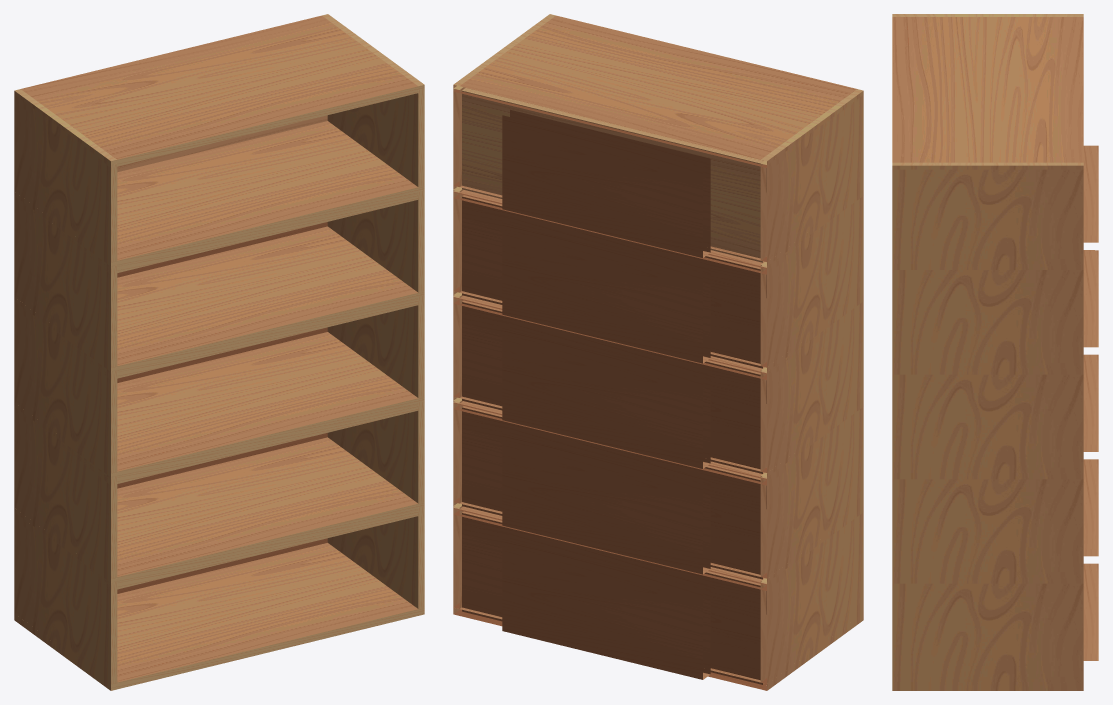
File: layout_wide_5s_open.fbx
3 views of the same model, side by side, from view 1: azimuth 30°, elevation 25°; view 2: azimuth 150°, elevation 25°; view 3: azimuth 270°, elevation 25° (orthographic).
Visible parts, largest first — view 1: Shelf-TM-00 4, Shelf-BM-00, Shelf-BM-00 4, Shelf-BM-00 3, Shelf-BM-00 2, Shelf-BM-00 1, Shelf-CL-01 2, Shelf-CL-01 3, Shelf-CL-01, Shelf-CL-01 1, Shelf-CL-01 4, Shelf-CR-01 4 (+16 smaller); view 2: Shelf-TM-00 4, Shelf-Back-00 (1), Shelf-Back-00 (1) 1, Shelf-Back-00 (1) 3, Shelf-Back-00 (1) 4, Shelf-Back-00 (1) 2, Shelf-Back-00 4, Shelf-CL-01, Shelf-CL-01 1, Shelf-CL-01 2, Shelf-CL-01 3, Shelf-CL-01 4 (+17 smaller); view 3: Shelf-TM-00 4, Shelf-CR-01, Shelf-CR-01 1, Shelf-CR-01 2, Shelf-CR-01 3, Shelf-CR-01 4, Shelf-Back-00 (1), Shelf-Back-00 (1) 1, Shelf-Back-00 (1) 2, Shelf-Back-00 (1) 3, Shelf-Back-00 (1) 4, Shelf-CR-00 (1) 4 (+6 smaller).
Boxes of the visible parts, x1=… form: Shelf-TM-00 4: x1=21, y1=15, x2=418, y2=166; Shelf-BM-00: x1=117, y1=543, x2=418, y2=689; Shelf-BM-00 4: x1=117, y1=121, x2=418, y2=267; Shelf-BM-00 3: x1=117, y1=226, x2=418, y2=372; Shelf-BM-00 2: x1=117, y1=332, x2=418, y2=476; Shelf-BM-00 1: x1=117, y1=437, x2=418, y2=582; Shelf-CL-01 2: x1=14, y1=301, x2=117, y2=472; Shelf-CL-01 3: x1=14, y1=196, x2=117, y2=367; Shelf-CL-01: x1=14, y1=512, x2=117, y2=683; Shelf-CL-01 1: x1=14, y1=407, x2=117, y2=578; Shelf-CL-01 4: x1=14, y1=95, x2=117, y2=262; Shelf-CR-01 4: x1=327, y1=89, x2=424, y2=187; Shelf-TM-00 4: x1=460, y1=15, x2=856, y2=166; Shelf-Back-00 (1): x1=502, y1=531, x2=710, y2=679; Shelf-Back-00 (1) 1: x1=502, y1=426, x2=710, y2=574; Shelf-Back-00 (1) 3: x1=502, y1=215, x2=710, y2=363; Shelf-Back-00 (1) 4: x1=502, y1=109, x2=710, y2=257; Shelf-Back-00 (1) 2: x1=502, y1=320, x2=710, y2=468; Shelf-Back-00 4: x1=462, y1=88, x2=766, y2=262; Shelf-CL-01: x1=760, y1=512, x2=863, y2=683; Shelf-CL-01 1: x1=760, y1=407, x2=863, y2=578; Shelf-CL-01 2: x1=760, y1=301, x2=863, y2=472; Shelf-CL-01 3: x1=760, y1=196, x2=863, y2=367; Shelf-CL-01 4: x1=760, y1=95, x2=863, y2=261; Shelf-TM-00 4: x1=892, y1=17, x2=1083, y2=162; Shelf-CR-01: x1=892, y1=583, x2=1083, y2=684; Shelf-CR-01 1: x1=892, y1=479, x2=1083, y2=579; Shelf-CR-01 2: x1=892, y1=374, x2=1083, y2=474; Shelf-CR-01 3: x1=892, y1=270, x2=1083, y2=370; Shelf-CR-01 4: x1=892, y1=169, x2=1083, y2=265; Shelf-Back-00 (1): x1=1083, y1=563, x2=1098, y2=660; Shelf-Back-00 (1) 1: x1=1083, y1=459, x2=1098, y2=556; Shelf-Back-00 (1) 2: x1=1083, y1=354, x2=1098, y2=451; Shelf-Back-00 (1) 3: x1=1083, y1=250, x2=1098, y2=347; Shelf-Back-00 (1) 4: x1=1083, y1=145, x2=1098, y2=242; Shelf-CR-00 (1) 4: x1=892, y1=162, x2=1083, y2=169.
Bounding box in the file's own units: 150 × 242 × 86.3.
